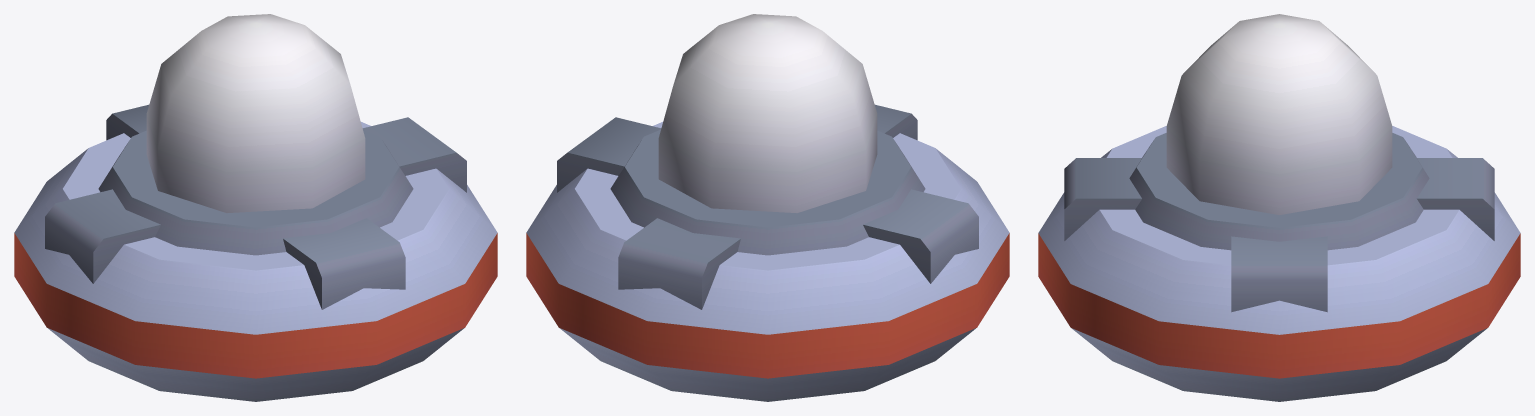
File: k-tower-defense-enemy-ufo-a.glb
The picture shows the model from 3 angles, left to right: view 1: azimuth 30°, elevation 25°; view 2: azimuth 150°, elevation 25°; view 3: azimuth 270°, elevation 25°; orthographic projection.
Parts seen in each view (by area): view 1: enemy-ufo-a; view 2: enemy-ufo-a; view 3: enemy-ufo-a.
Boxes of the visible parts, x1=… form: enemy-ufo-a: x1=14, y1=14, x2=497, y2=401; enemy-ufo-a: x1=526, y1=14, x2=1009, y2=401; enemy-ufo-a: x1=1038, y1=14, x2=1520, y2=401.
Size of the model in its own units: 1 by 0.6779 by 1.
Materials: 1 (1 with a texture image).
